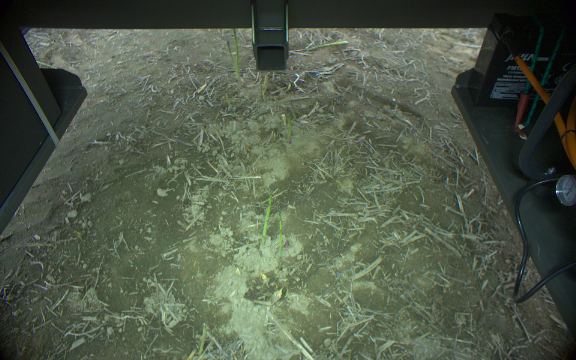aspa: (258, 192, 273, 252), (273, 205, 286, 268), (303, 36, 351, 52), (283, 103, 295, 145), (231, 28, 241, 76), (226, 38, 237, 74), (198, 322, 210, 354)
